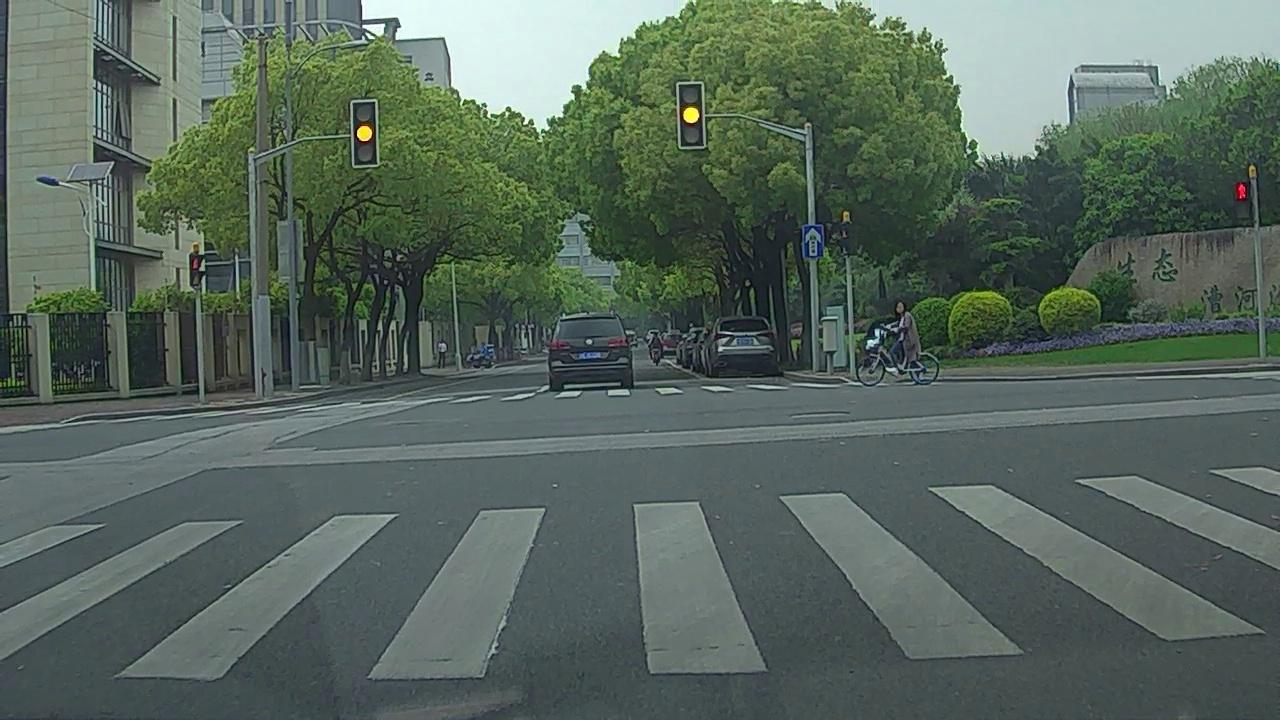traffic_light: (352, 102, 378, 165), (680, 84, 704, 146)
